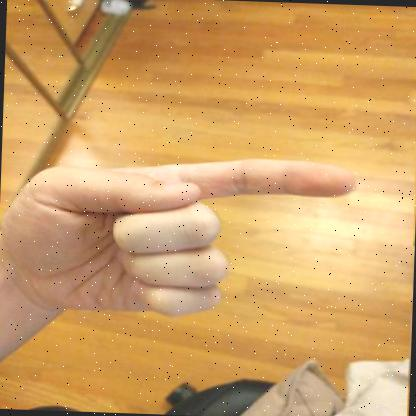G: (0, 159, 356, 317)
